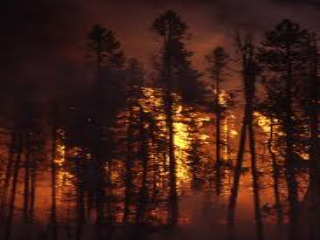fire: (134, 80, 223, 201), (43, 132, 96, 208), (245, 105, 288, 144)
